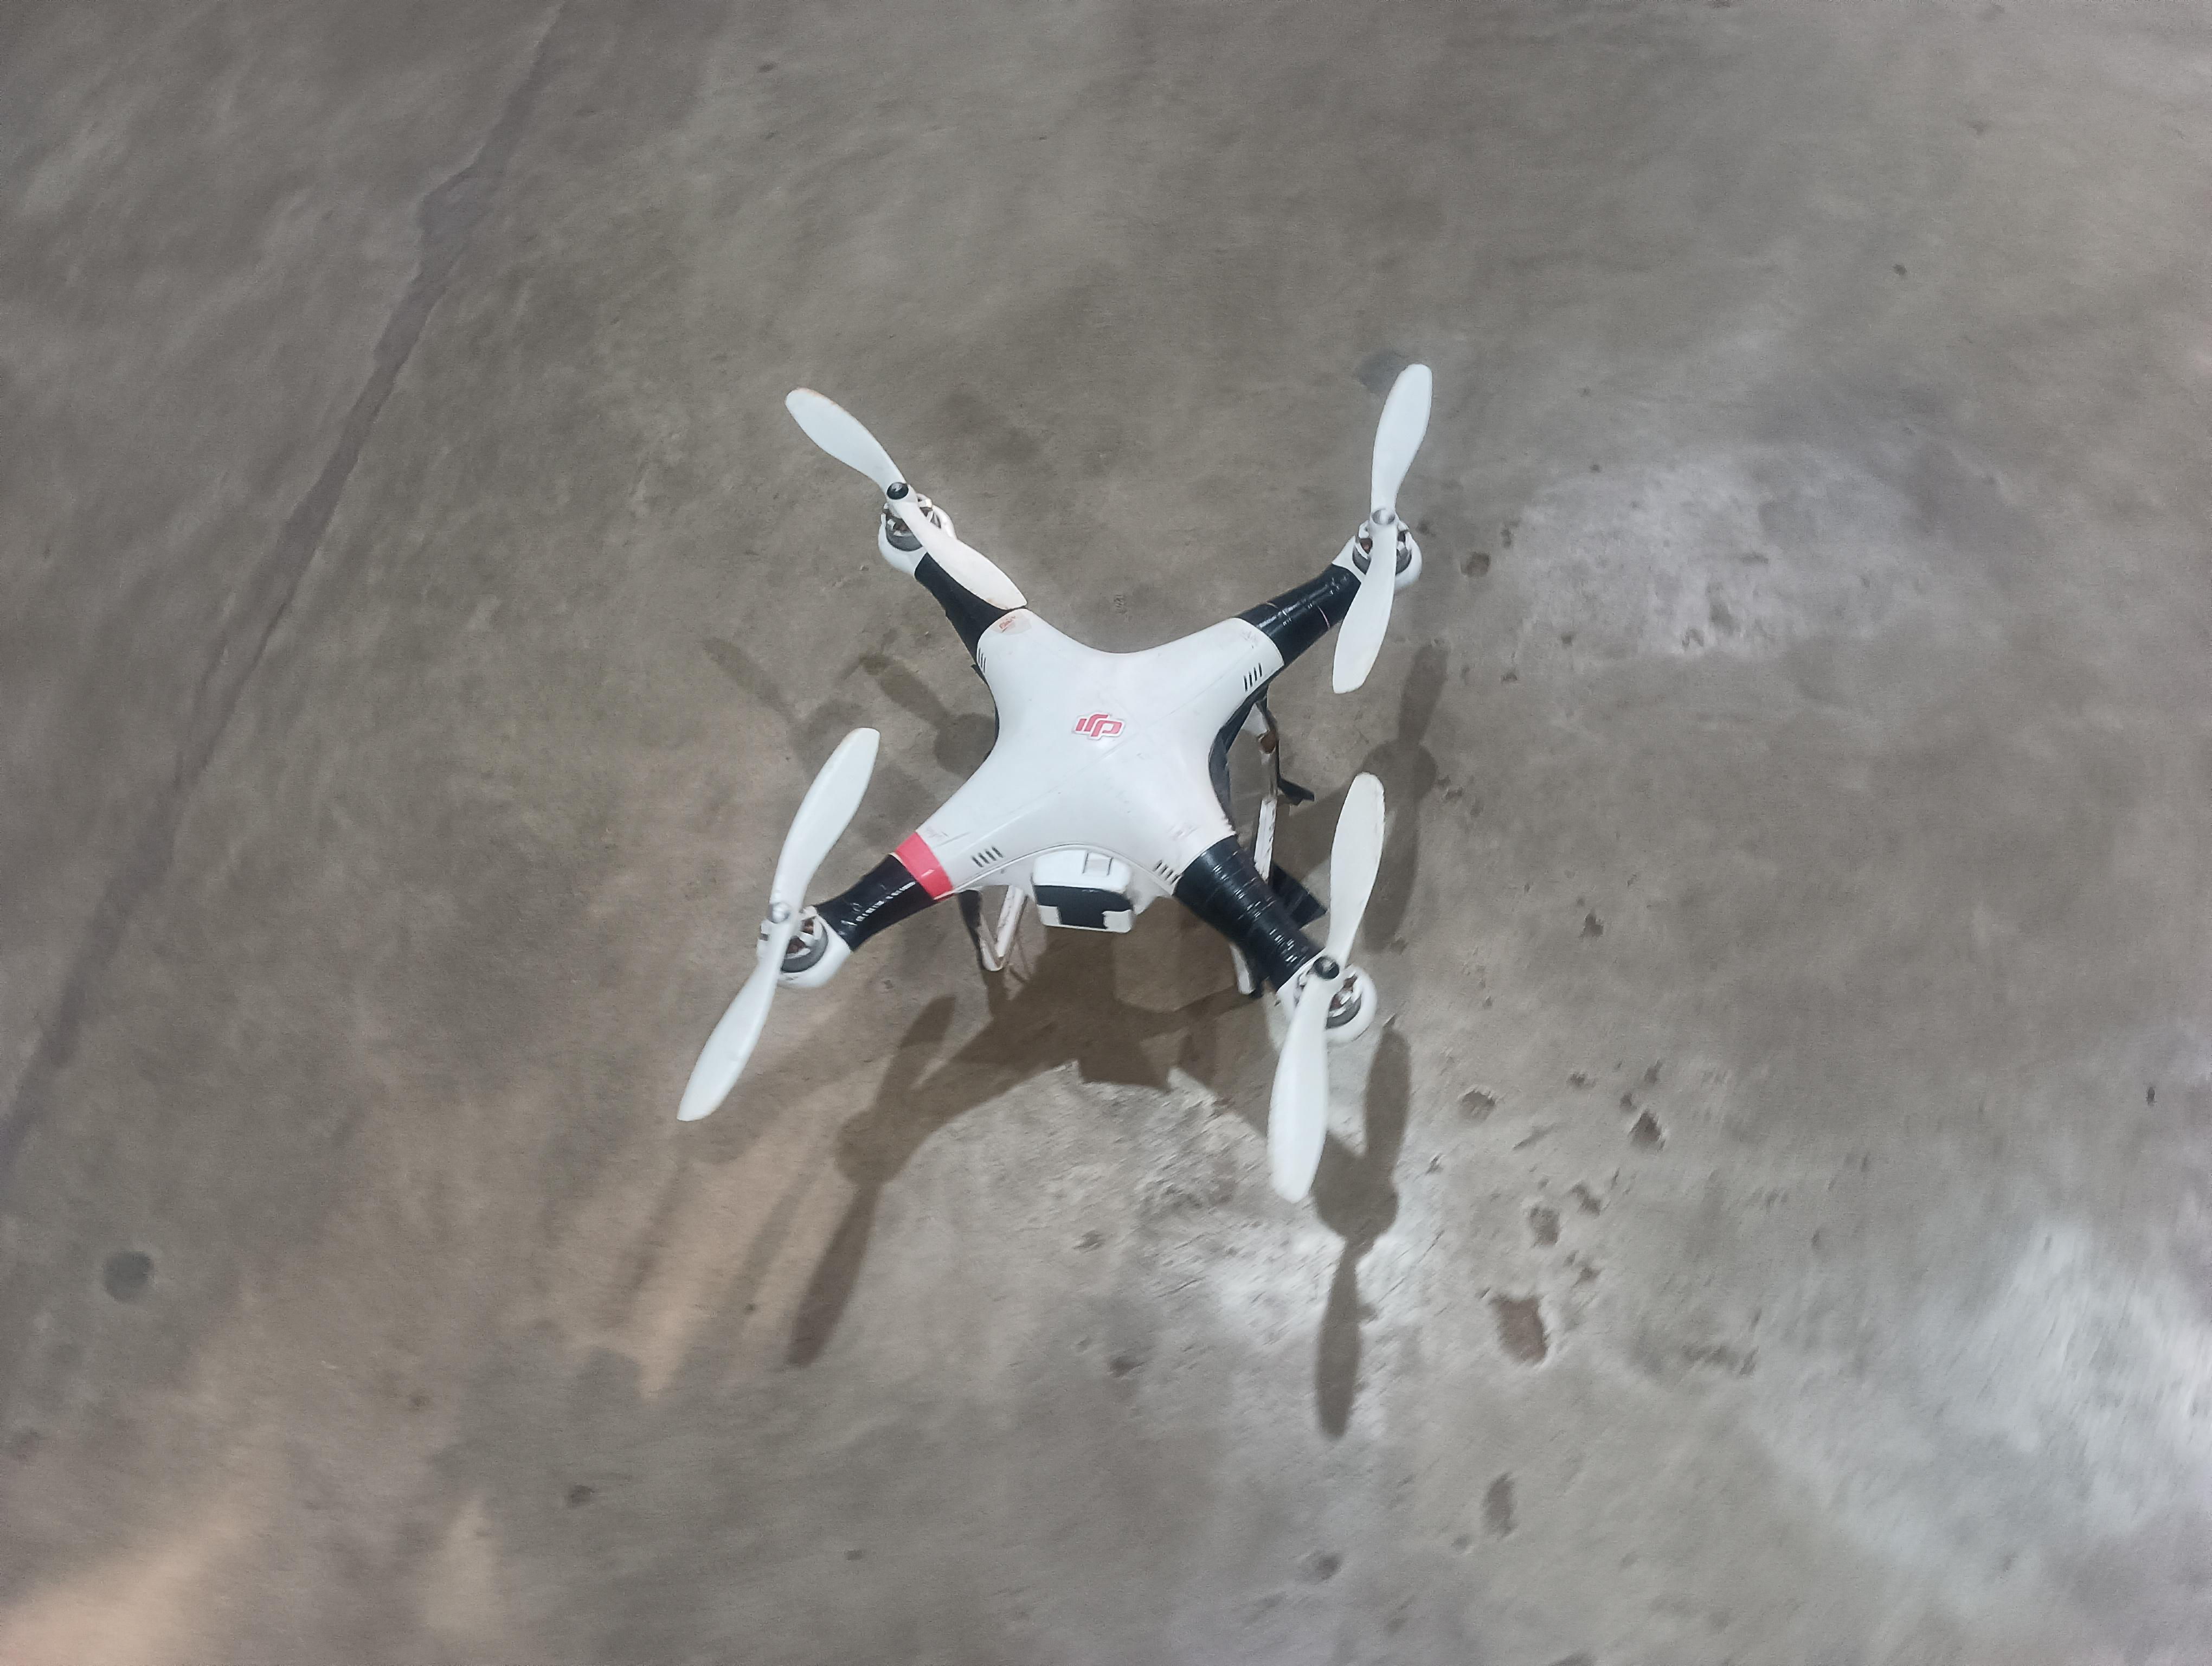drone: (663, 332, 1577, 1281)
